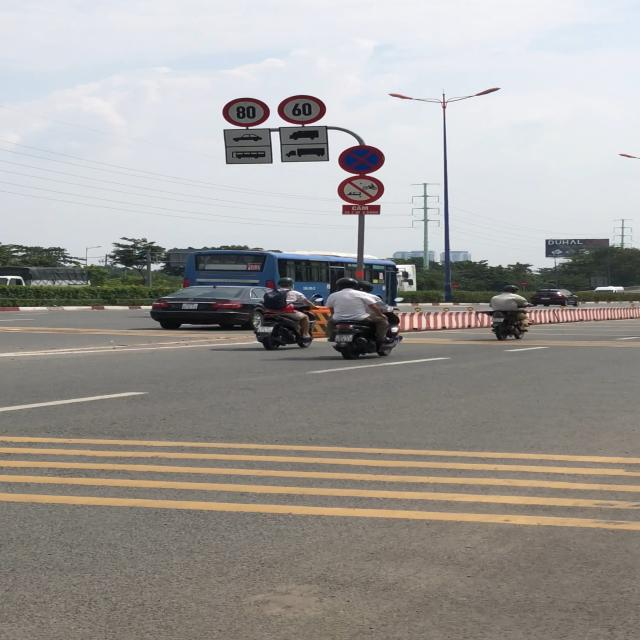Bien bao cam dung xe va do xe: (337, 144, 388, 175)
Bien bao toc do toi da cho phep: (222, 96, 272, 127), (278, 95, 328, 124)
